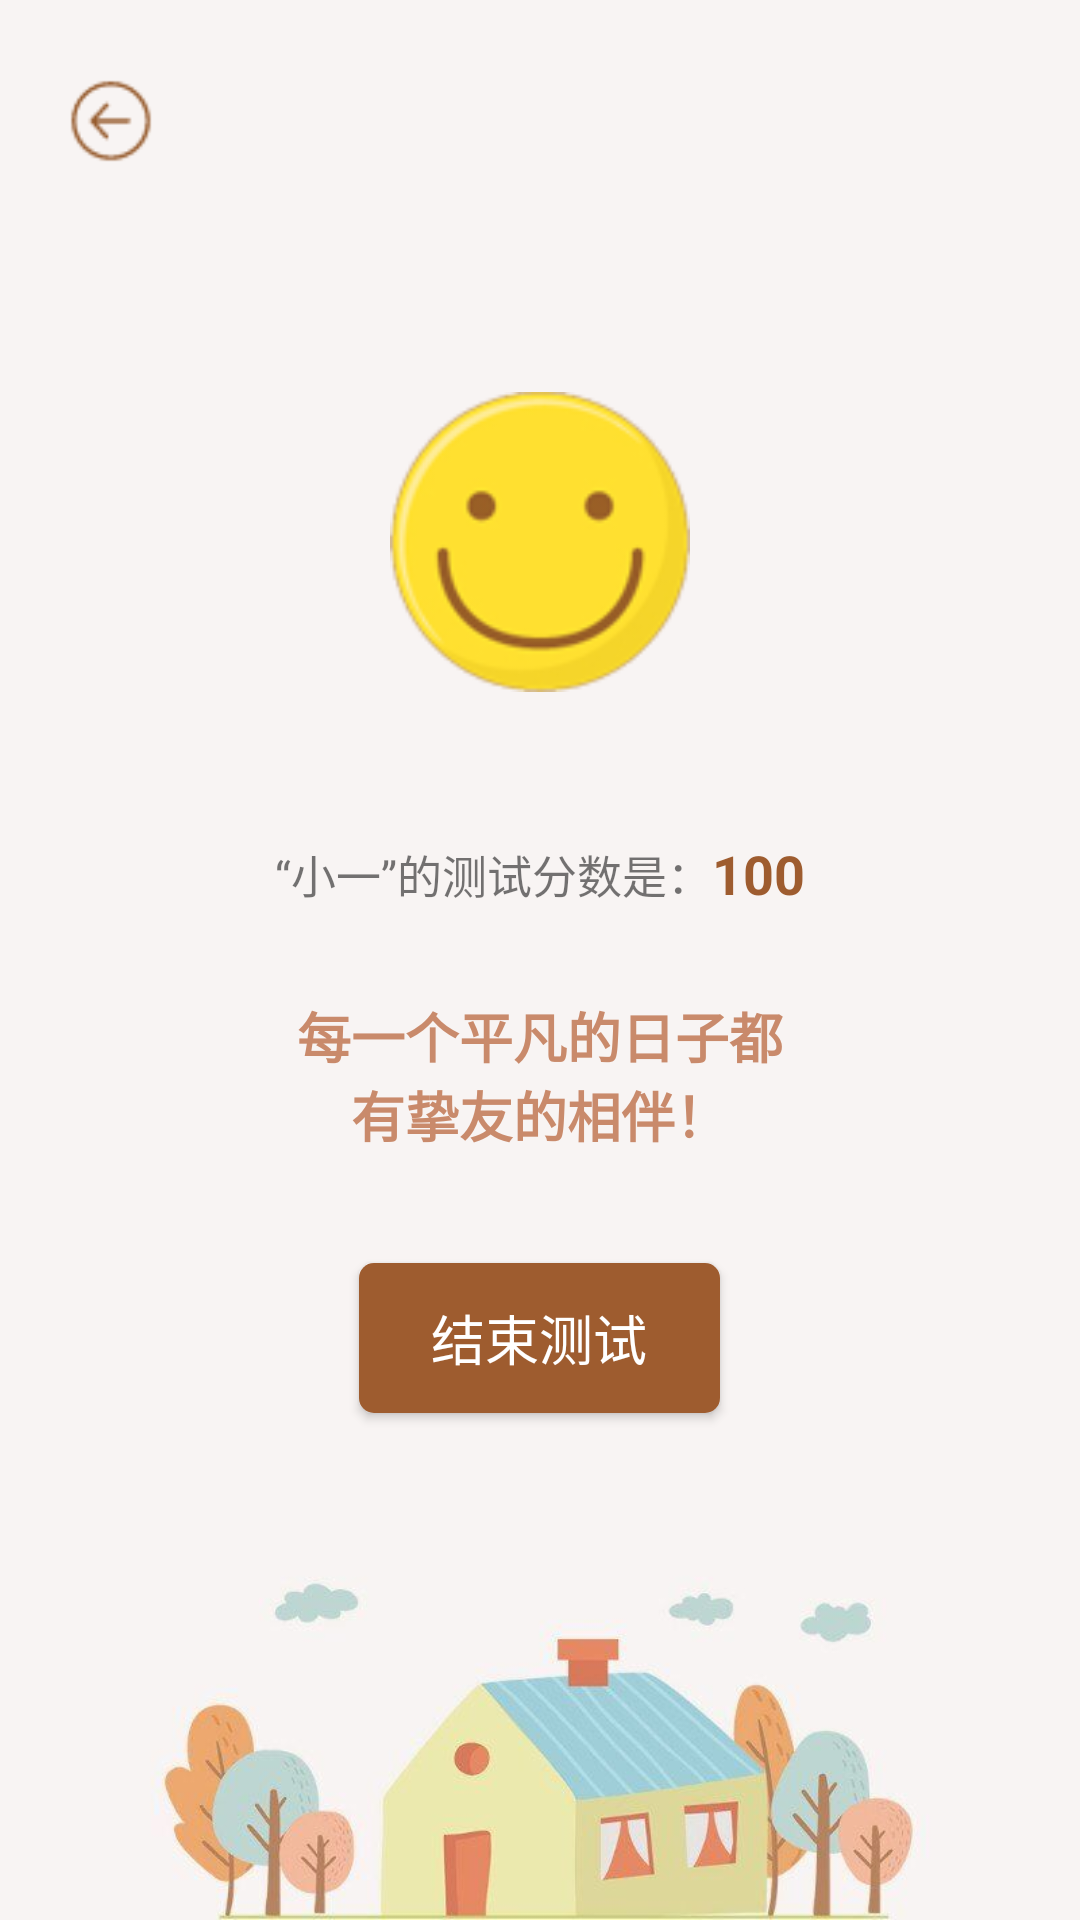

Icon bounding boxes for this 1080 x 1920 phone screenshot, format (x1,y1,x2,y2):
testrecord testresult happy: (390,392,690,692)
